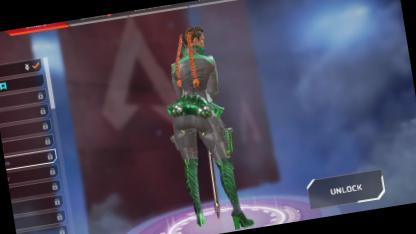Target: (159, 19, 233, 194)
